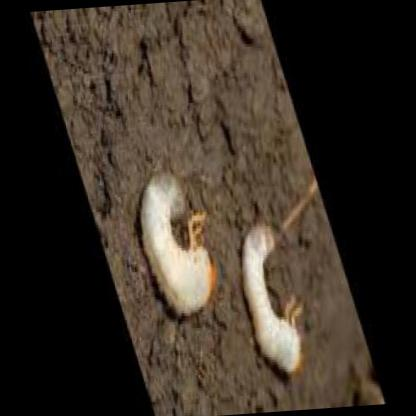root grubs: (138, 168, 220, 318), (242, 227, 301, 375)
